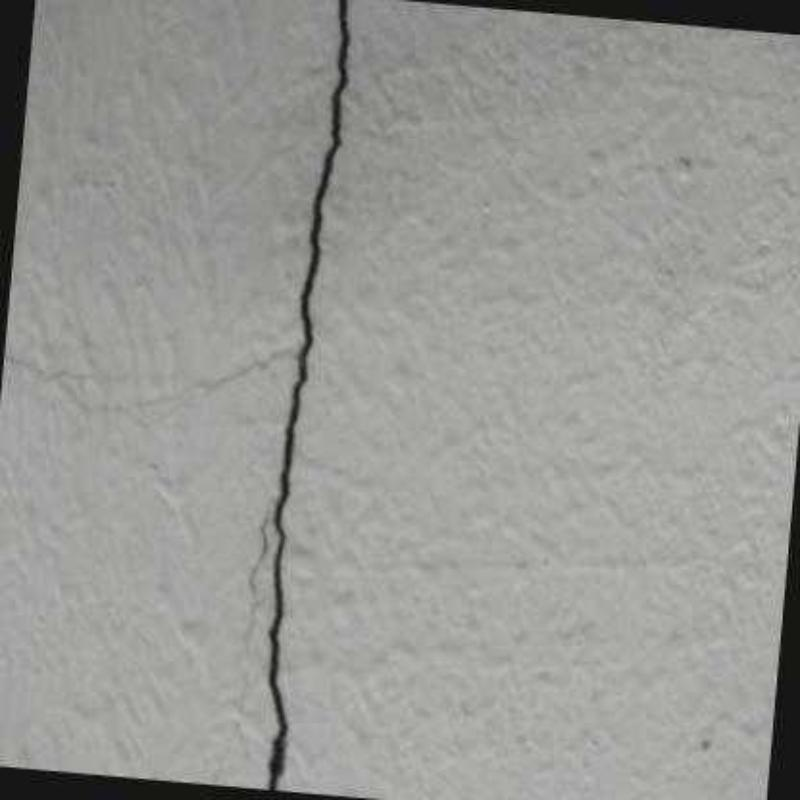crack: (266, 0, 349, 791), (4, 346, 294, 429), (245, 510, 272, 645)
